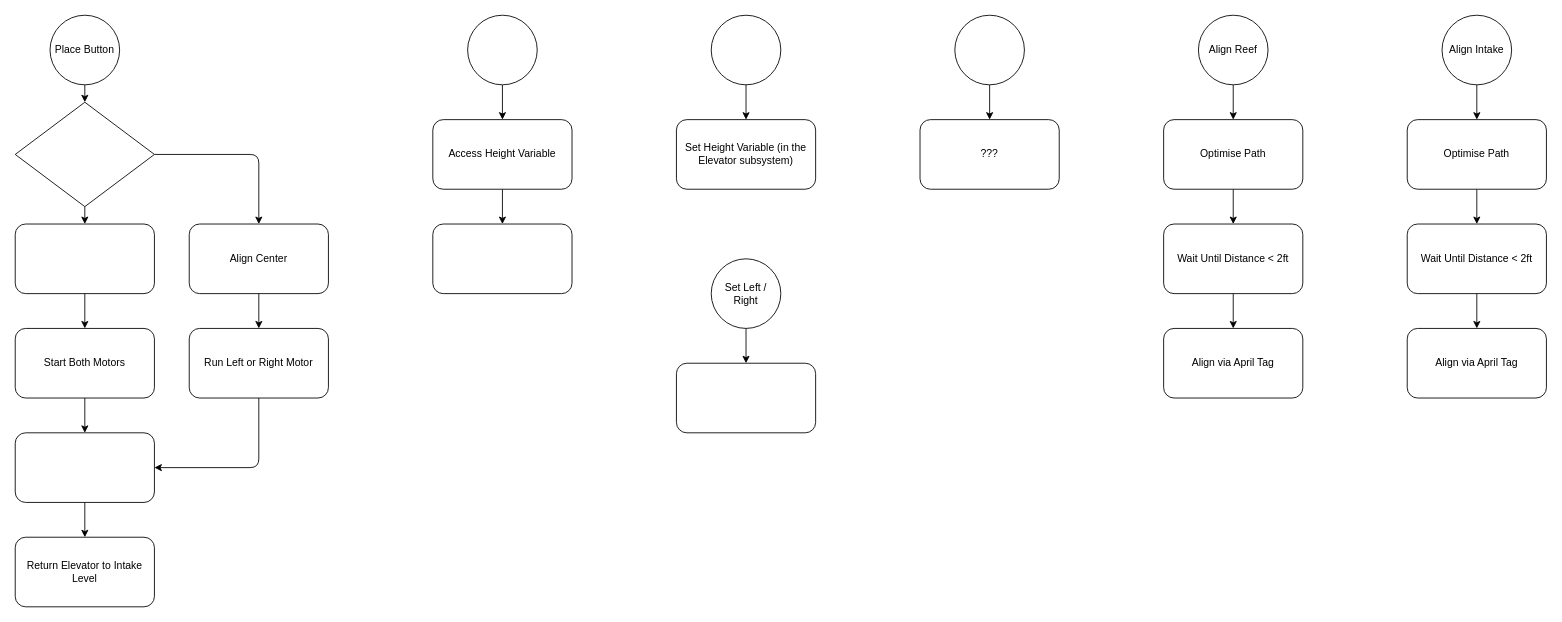
Image size: 1562x622. Some labels were removed from this diagram. Here are the shapes that lost their labels. From the top down, the centre of each, then its label:
pixel 502 49: Move Elevator
pixel 745 49: Set Elevator Height
pixel 989 49: Move
pixel 84 154: If Level = 1
pixel 84 258: Alirgn Left or Align Right
pixel 502 258: Set Height (Intake, L1, L2, L3, L4)
pixel 746 397: Set Left/Right Variable (in Drivetrain subsystem)
pixel 84 467: Wait X Seconds
